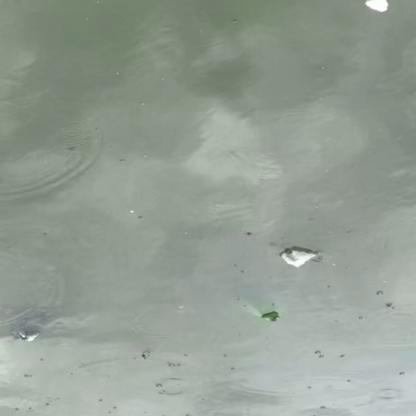Trash: (279, 246, 316, 271), (16, 321, 42, 345), (360, 1, 393, 17)
